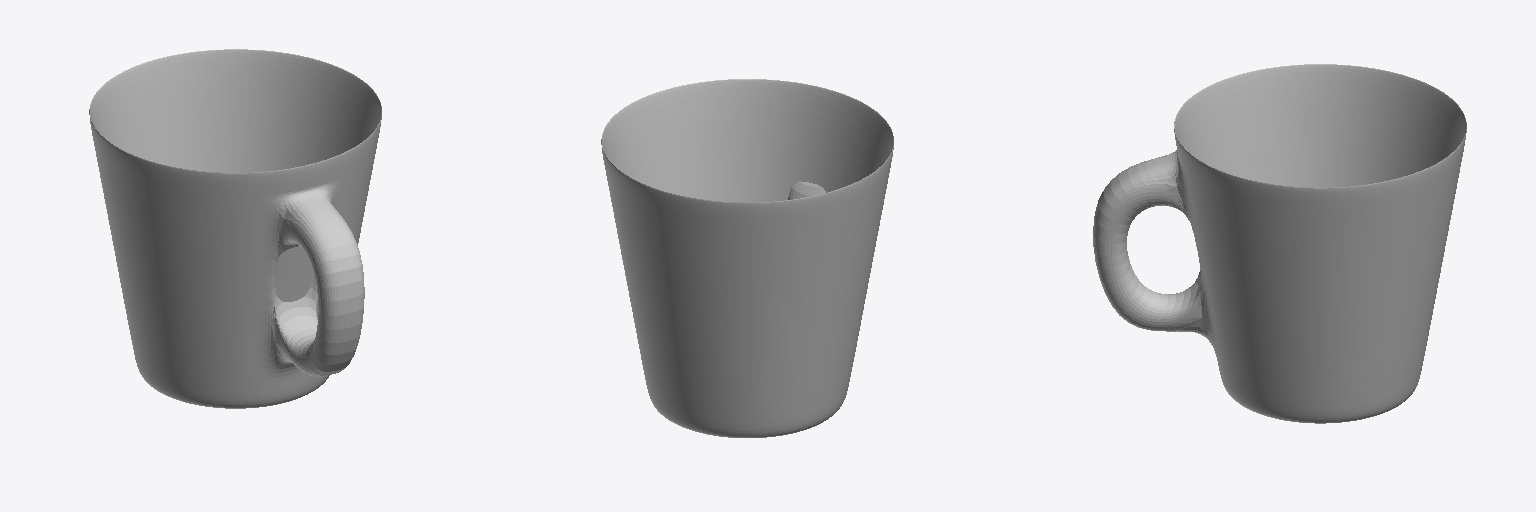
Rendered from salca.obj.
3 views of the same model, side by side, from view 1: azimuth 30°, elevation 25°; view 2: azimuth 150°, elevation 25°; view 3: azimuth 270°, elevation 25° (orthographic).
Visible parts, largest first — view 1: Circle; view 2: Circle; view 3: Circle.
Boxes of the visible parts, x1,y1,x2,y2 form: Circle: [89, 49, 381, 408]; Circle: [601, 79, 893, 437]; Circle: [1093, 64, 1466, 423].
Bounding box in the file's own units: 3.07 × 3.01 × 3.91.